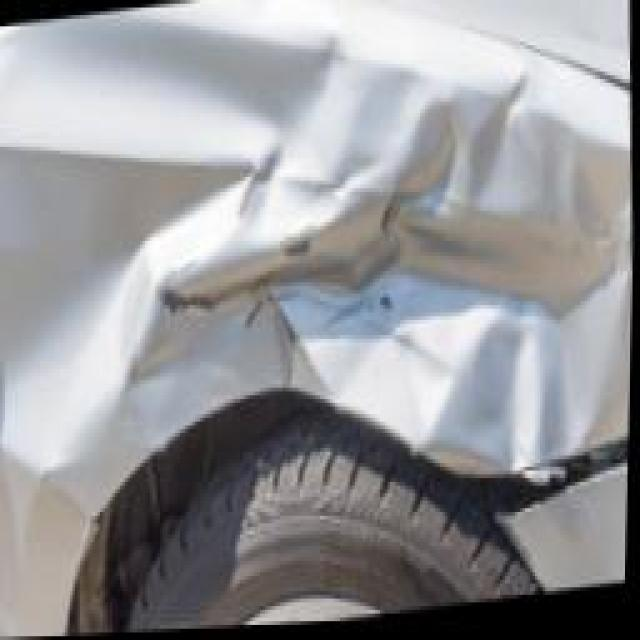Fender: (0, 0, 640, 568)
